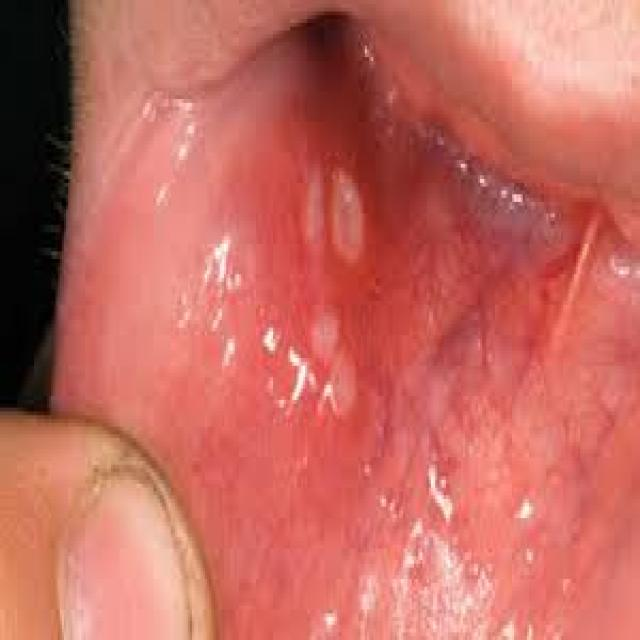processing_area: (52, 0, 638, 636)
ulcer-detection: (279, 126, 402, 462)
